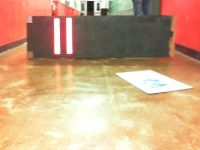switch: (54, 18, 60, 55), (66, 18, 72, 54)
